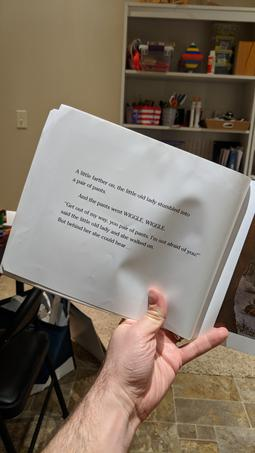text block: (54, 163, 205, 265)
